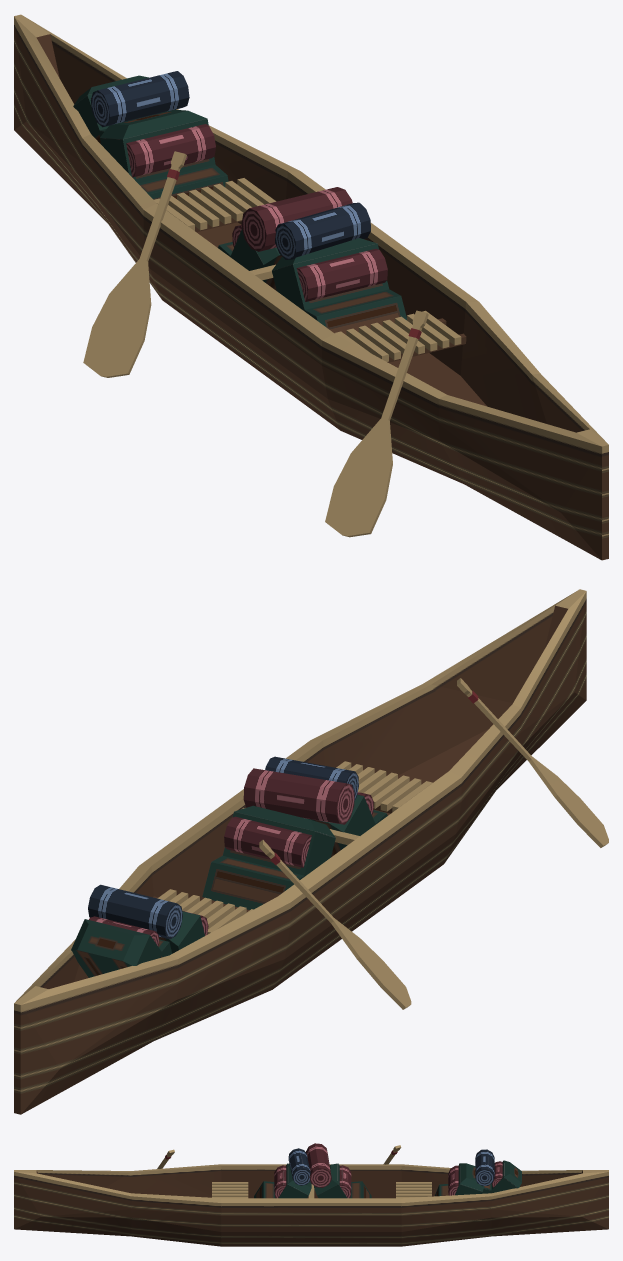
Rendered from Canoe 3 and Paddle and Bag.obj.
The picture shows the model from 3 angles, top to bottom: view 1: azimuth 30°, elevation 25°; view 2: azimuth 150°, elevation 25°; view 3: azimuth 270°, elevation 25°; orthographic projection. The views are drawn at different scales.
Parts seen in each view (by area): view 1: Canoe_5, Paddle_10, Paddle_9; view 2: Canoe_5, Paddle_9, Paddle_10; view 3: Canoe_5.
Boxes of the visible parts, x1=… form: Canoe_5: x1=14, y1=14, x2=608, y2=560; Paddle_10: x1=325, y1=310, x2=428, y2=537; Paddle_9: x1=83, y1=151, x2=186, y2=377; Canoe_5: x1=14, y1=589, x2=586, y2=1114; Paddle_9: x1=259, y1=840, x2=411, y2=1009; Paddle_10: x1=457, y1=678, x2=608, y2=847; Canoe_5: x1=14, y1=1143, x2=608, y2=1246.
Bounding box in the file's own units: 205 × 136 × 842.
1 material, 1 textured.
